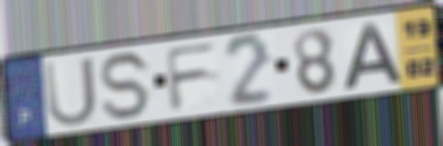2: (221, 31, 279, 112)
8: (291, 26, 338, 96)
A: (340, 20, 405, 93)
F: (162, 39, 221, 114)
S: (97, 49, 154, 123)
U: (41, 54, 100, 130)
